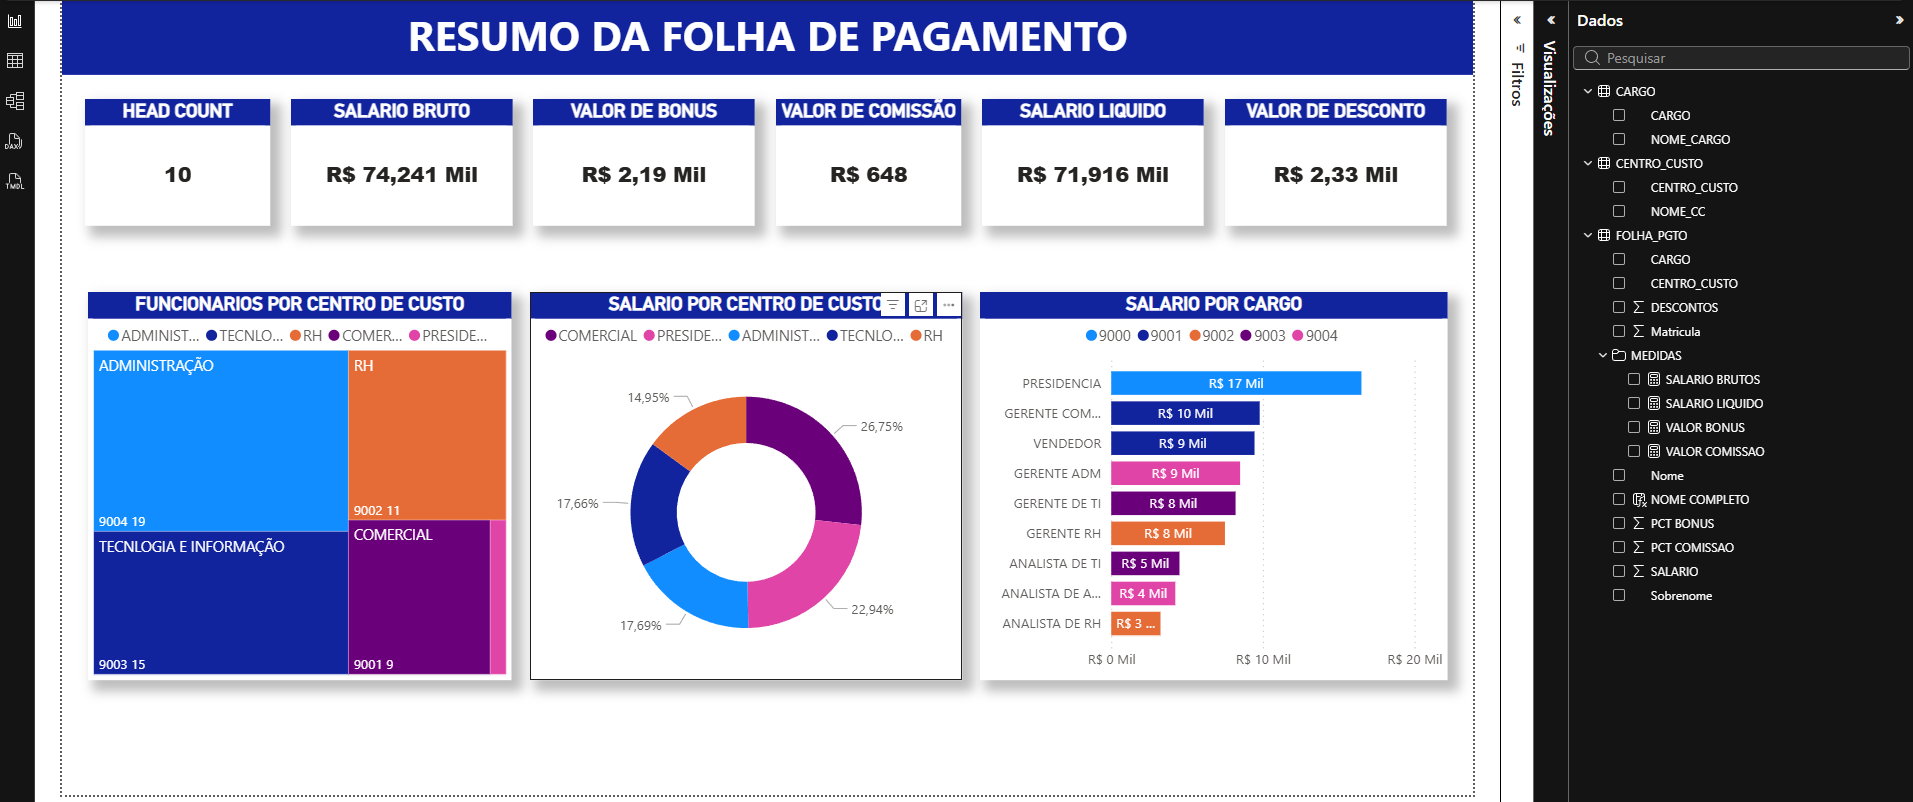

What the dashboard file says about the page in this screenshot:
{"tool":"powerbi","page":{"name":"Página 1","canvas":[1280,720],"ordinal":0},"visuals":[{"type":"textbox","box":[0,0,1280,67.1],"z":0},{"type":"cardVisual","title":"HEAD COUNT","fields":{"Data":["Count(FOLHA_PGTO.Matricula)"]},"box":[20.4,88.5,168.3,114.8],"z":1000},{"type":"cardVisual","title":"SALARIO BRUTO","fields":{"Data":["CARGO.SALARIO BRUTOS"]},"box":[207.4,88.5,201.3,114.8],"z":2000},{"type":"cardVisual","title":"VALOR DE BONUS","fields":{"Data":["CARGO.VALOR BONUS"]},"box":[427.4,88.5,201.3,114.8],"z":3000},{"type":"cardVisual","title":"VALOR DE COMISSÃO","fields":{"Data":["CARGO.VALOR COMISSAO"]},"box":[647.4,88.5,168.3,114.8],"z":4000},{"type":"cardVisual","title":"VALOR DE DESCONTO","fields":{"Data":["Sum(FOLHA_PGTO.DESCONTOS)"]},"box":[1054.3,88.5,201.3,114.8],"z":5000},{"type":"cardVisual","title":"SALARIO LIQUIDO","fields":{"Data":["CARGO.SALARIO LIQUIDO"]},"box":[834.3,88.5,201.3,114.8],"z":6000},{"type":"treemap","title":"FUNCIONARIOS POR CENTRO DE CUSTO","fields":{"Group":["CENTRO_CUSTO.NOME_CC"],"Values":["Sum(FOLHA_PGTO.Matricula)"],"Details":["FOLHA_PGTO.CENTRO_CUSTO"]},"box":[24,264,384,352],"z":7000},{"type":"donutChart","title":"SALARIO POR CENTRO DE CUSTO","fields":{"Category":["CENTRO_CUSTO.NOME_CC"],"Series":["FOLHA_PGTO.CENTRO_CUSTO"],"Y":["CARGO.SALARIO LIQUIDO"]},"box":[424,264,392,352],"z":8000},{"type":"barChart","title":"SALARIO POR CARGO","fields":{"Category":["CARGO.NOME_CARGO"],"Series":["FOLHA_PGTO.CENTRO_CUSTO"],"Y":["CARGO.SALARIO LIQUIDO"]},"box":[832,264,424,352],"z":9000}]}

Visuals, with their boxes on the page's 1280x720 design canvas (x1, y1, x2, y2). These are canvas units, not pixel positions in the 1913x802 screenshot, which may show the page scaled, cropped or inside an application window:
textbox: box=[0, 0, 1280, 67]
"HEAD COUNT" cardVisual: box=[20, 88, 189, 203]
"SALARIO BRUTO" cardVisual: box=[207, 88, 409, 203]
"VALOR DE BONUS" cardVisual: box=[427, 88, 629, 203]
"VALOR DE COMISSÃO" cardVisual: box=[647, 88, 816, 203]
"VALOR DE DESCONTO" cardVisual: box=[1054, 88, 1256, 203]
"SALARIO LIQUIDO" cardVisual: box=[834, 88, 1036, 203]
"FUNCIONARIOS POR CENTRO DE CUSTO" treemap: box=[24, 264, 408, 616]
"SALARIO POR CENTRO DE CUSTO" donutChart: box=[424, 264, 816, 616]
"SALARIO POR CARGO" barChart: box=[832, 264, 1256, 616]
